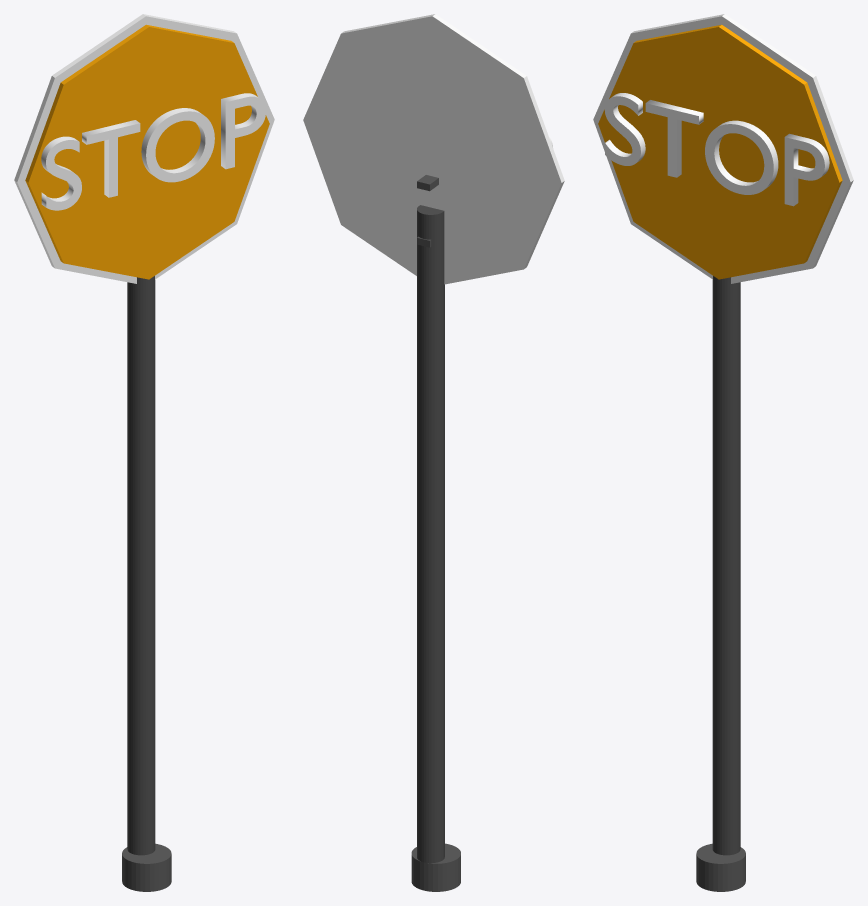
3 renders of one model, left to right at view 1: azimuth 30°, elevation 25°; view 2: azimuth 150°, elevation 25°; view 3: azimuth 330°, elevation 25°, orthographic.
Visible parts, largest first — view 1: Cylinder.003, Cylinder.001, Text, Cylinder.002, Cylinder; view 2: Cylinder.002, Cylinder.001, Cylinder; view 3: Cylinder.003, Cylinder.001, Text, Cylinder.002, Cylinder.
Boxes of the visible parts, x1=… form: Cylinder.003: x1=25, y1=24, x2=269, y2=279; Cylinder.001: x1=127, y1=276, x2=155, y2=855; Text: x1=41, y1=93, x2=265, y2=210; Cylinder.002: x1=14, y1=14, x2=274, y2=283; Cylinder: x1=122, y1=843, x2=171, y2=891; Cylinder.002: x1=303, y1=14, x2=564, y2=284; Cylinder.001: x1=417, y1=205, x2=444, y2=863; Cylinder: x1=411, y1=843, x2=460, y2=891; Cylinder.003: x1=598, y1=24, x2=842, y2=279; Cylinder.001: x1=712, y1=276, x2=740, y2=855; Text: x1=604, y1=93, x2=829, y2=206; Cylinder.002: x1=593, y1=14, x2=853, y2=283; Cylinder: x1=696, y1=843, x2=745, y2=891.
Size of the model in its own units: 0.96 by 3.08 by 0.163.
